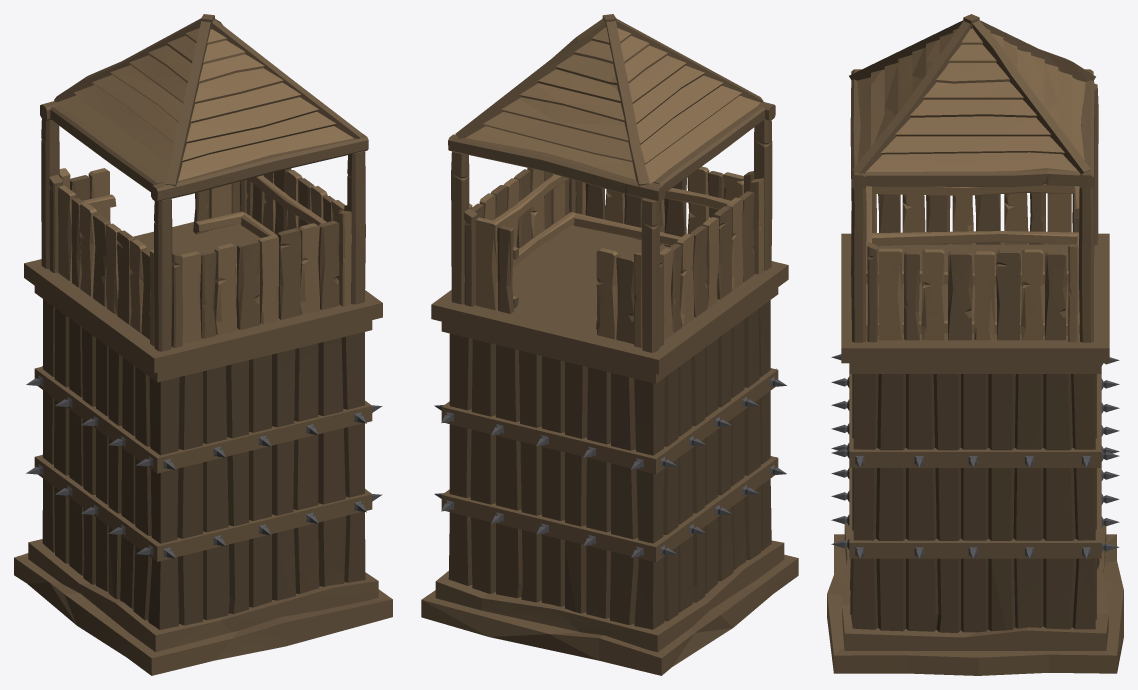
File: Torre.glb
3 views of the same model, side by side, from view 1: azimuth 30°, elevation 25°; view 2: azimuth 150°, elevation 25°; view 3: azimuth 270°, elevation 25° (orthographic). The views are drawn at different scales.
Parts seen in each view (by area): view 1: SM_Bld_Guard_Tower_01; view 2: SM_Bld_Guard_Tower_01; view 3: SM_Bld_Guard_Tower_01.
Part boxes in pixels (x1=…): SM_Bld_Guard_Tower_01: x1=14, y1=14, x2=392, y2=675; SM_Bld_Guard_Tower_01: x1=421, y1=14, x2=798, y2=675; SM_Bld_Guard_Tower_01: x1=827, y1=14, x2=1123, y2=675.
Size of the model in its own units: 3.61 by 8 by 3.61.
Materials: 1 (1 with a texture image).
